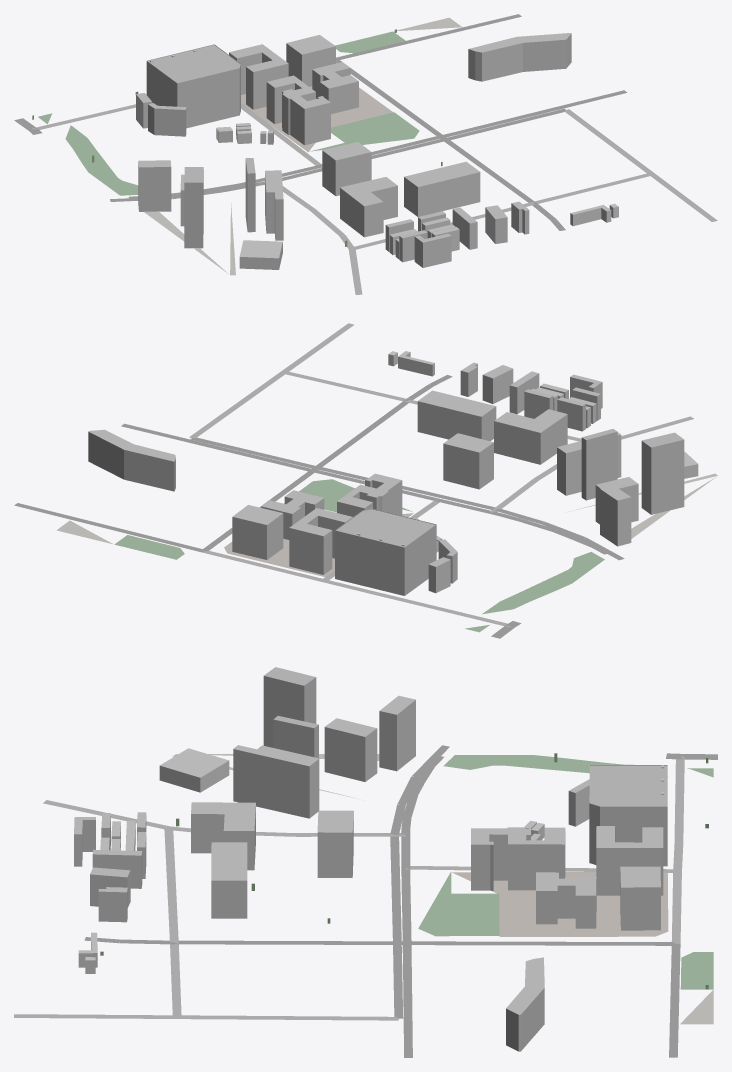
3 renders of one model, top to bottom at view 1: azimuth 30°, elevation 25°; view 2: azimuth 150°, elevation 25°; view 3: azimuth 270°, elevation 25°, orthographic. The views are drawn at different scales.
Size of the model in its own units: 582 by 75.94 by 558.
